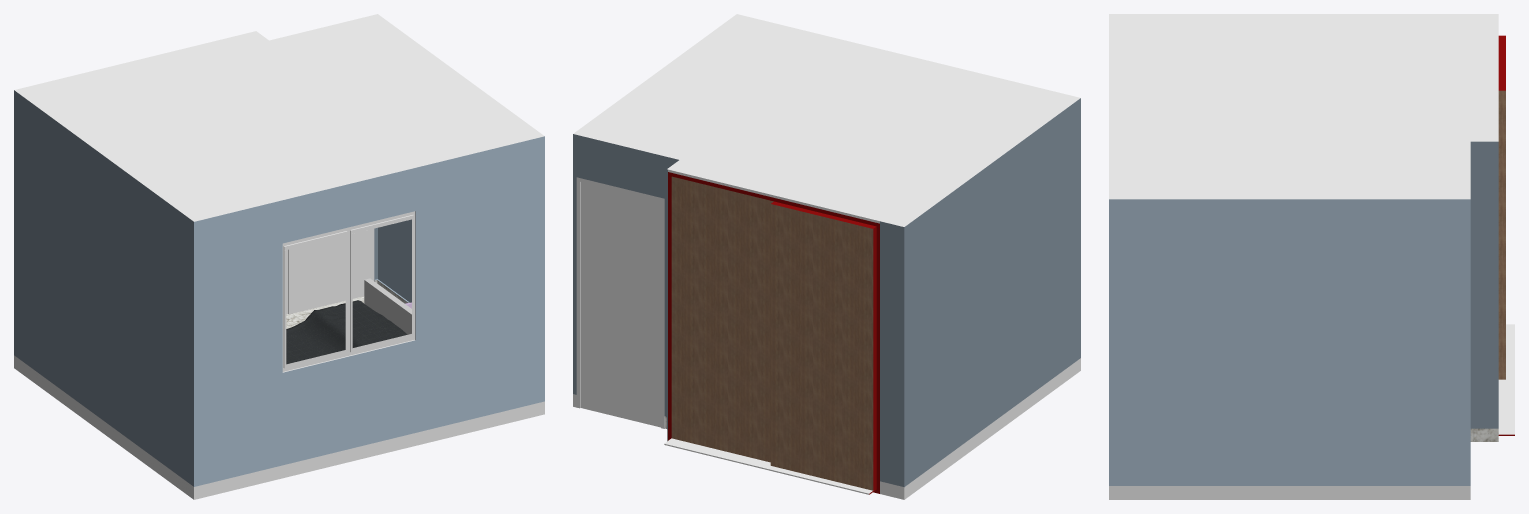
3 views of the same model, side by side, from view 1: azimuth 30°, elevation 25°; view 2: azimuth 150°, elevation 25°; view 3: azimuth 270°, elevation 25° (orthographic). The views are drawn at different scales.
Visible parts, largest first — view 1: pieza; view 2: pieza; view 3: pieza.
Boxes of the visible parts, x1=… form: pieza: x1=14, y1=14, x2=544, y2=499; pieza: x1=573, y1=14, x2=1080, y2=499; pieza: x1=1109, y1=14, x2=1514, y2=499.
Size of the model in its own units: 2.97 by 2.25 by 2.75.
9 materials, 4 textured.
